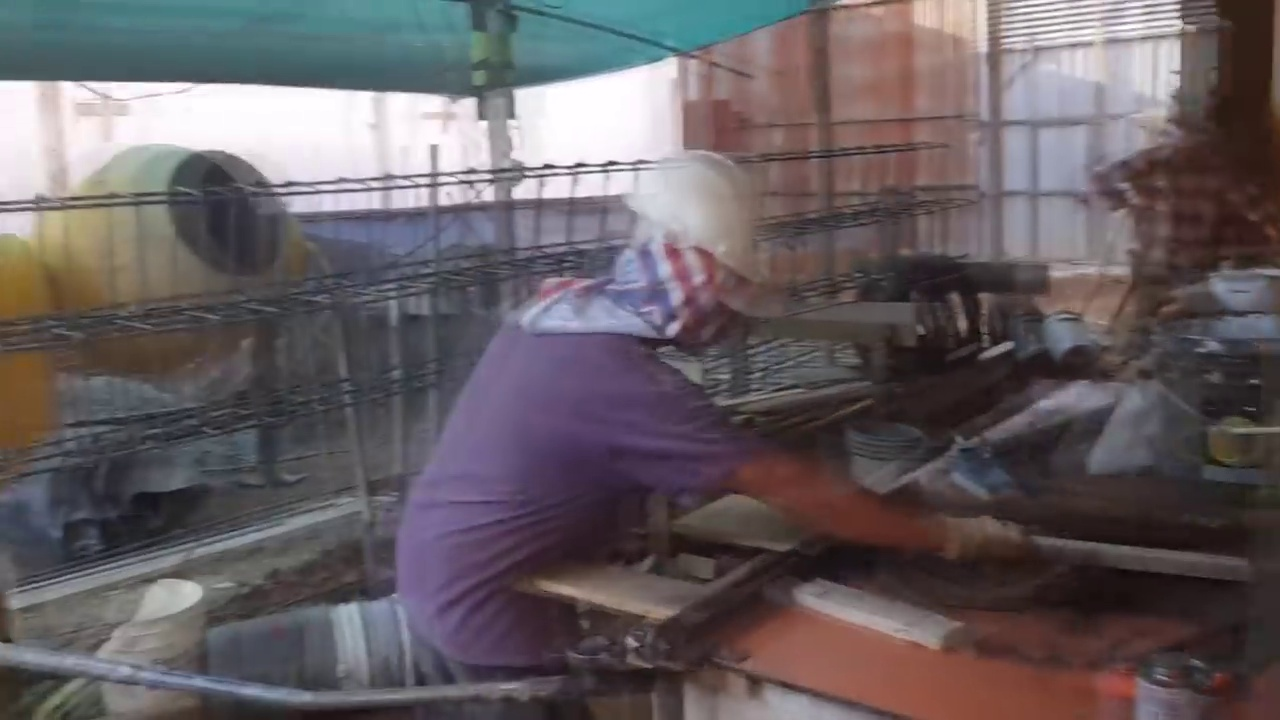helmet: (618, 148, 766, 255)
helmet-on: (595, 147, 769, 348)
person: (393, 153, 1036, 720), (1094, 109, 1227, 326)
